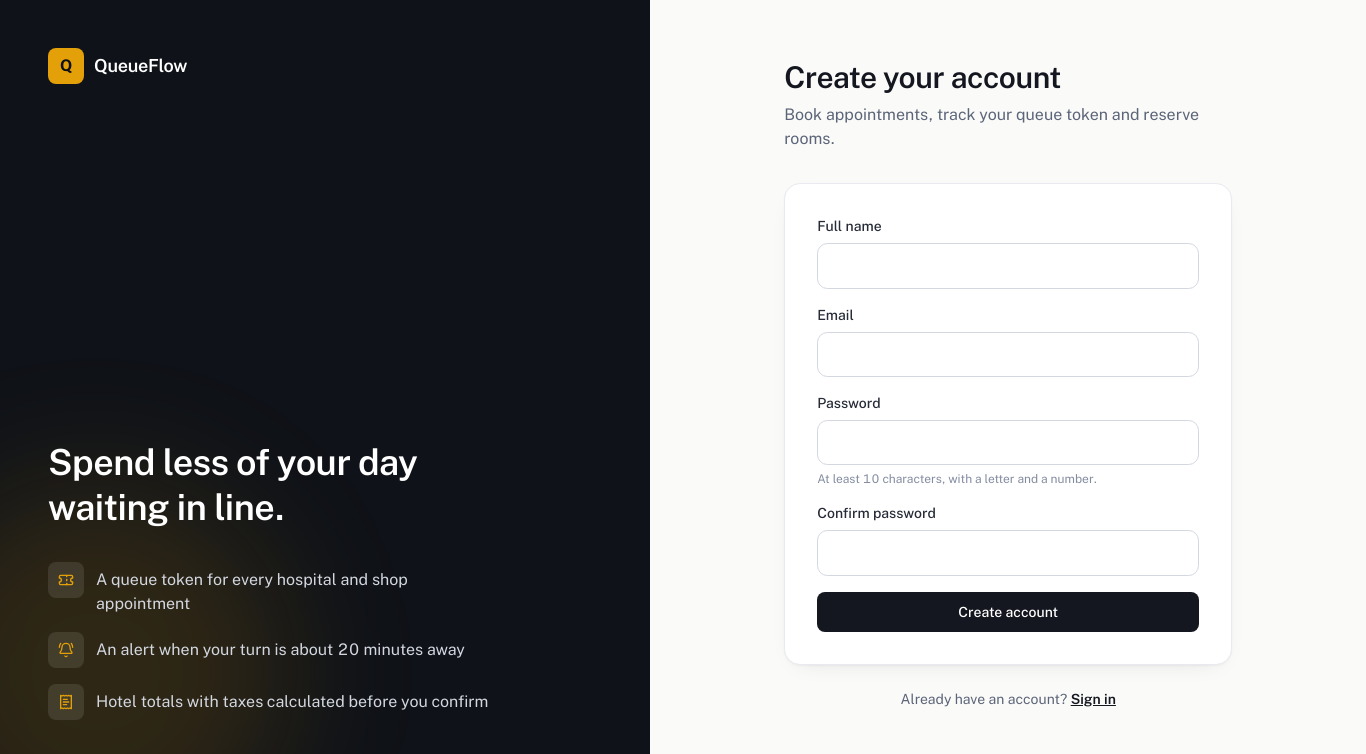
Test case: Register page › maps server validation errors onto fields
Type "Asha" into the field labelled "Full name" at (1008, 266), box [817,243,1199,289]
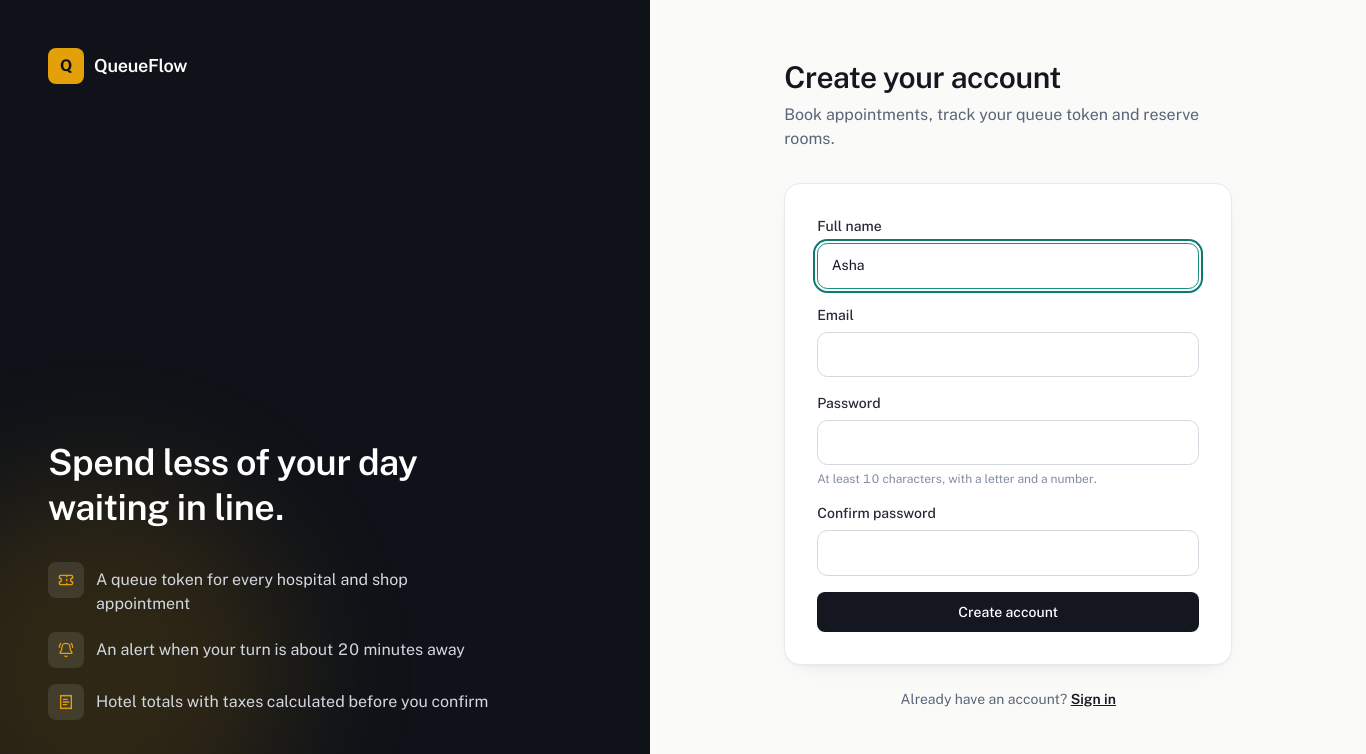
Type "taken@example.com" into the field labelled "Email" at (1008, 354), box [817,332,1199,377]
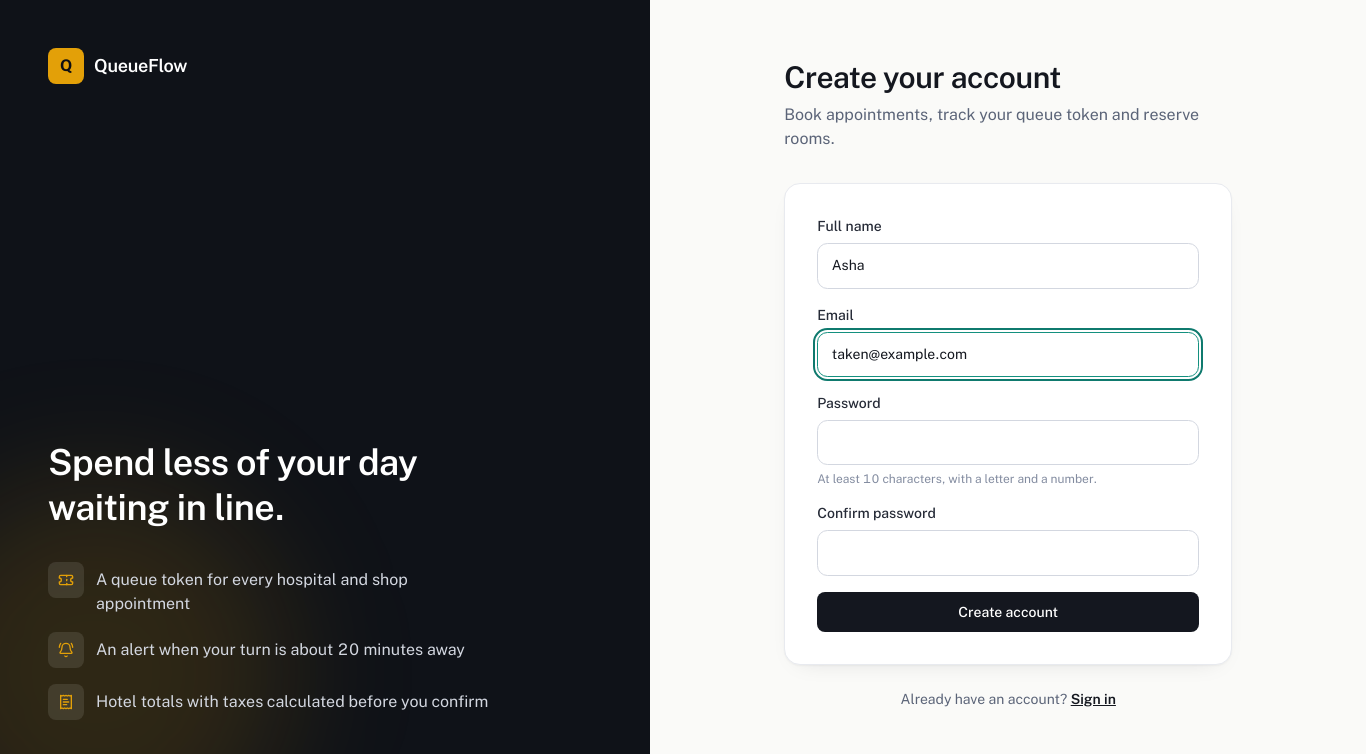
Type "Walkthrough2026" into the password field labelled "Password" at (1008, 443), box [817,420,1199,465]
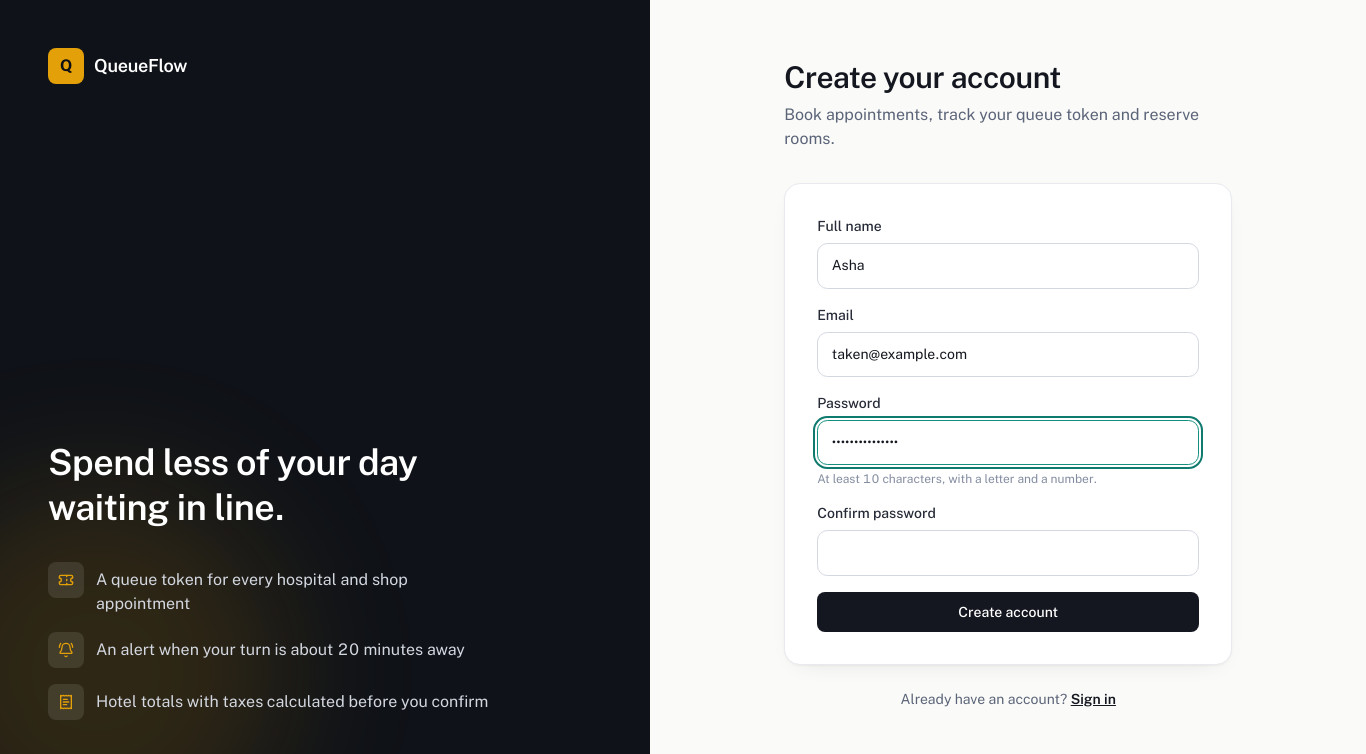
Type "Walkthrough2026" into the password field labelled "Confirm password" at (1008, 553), box [817,530,1199,576]
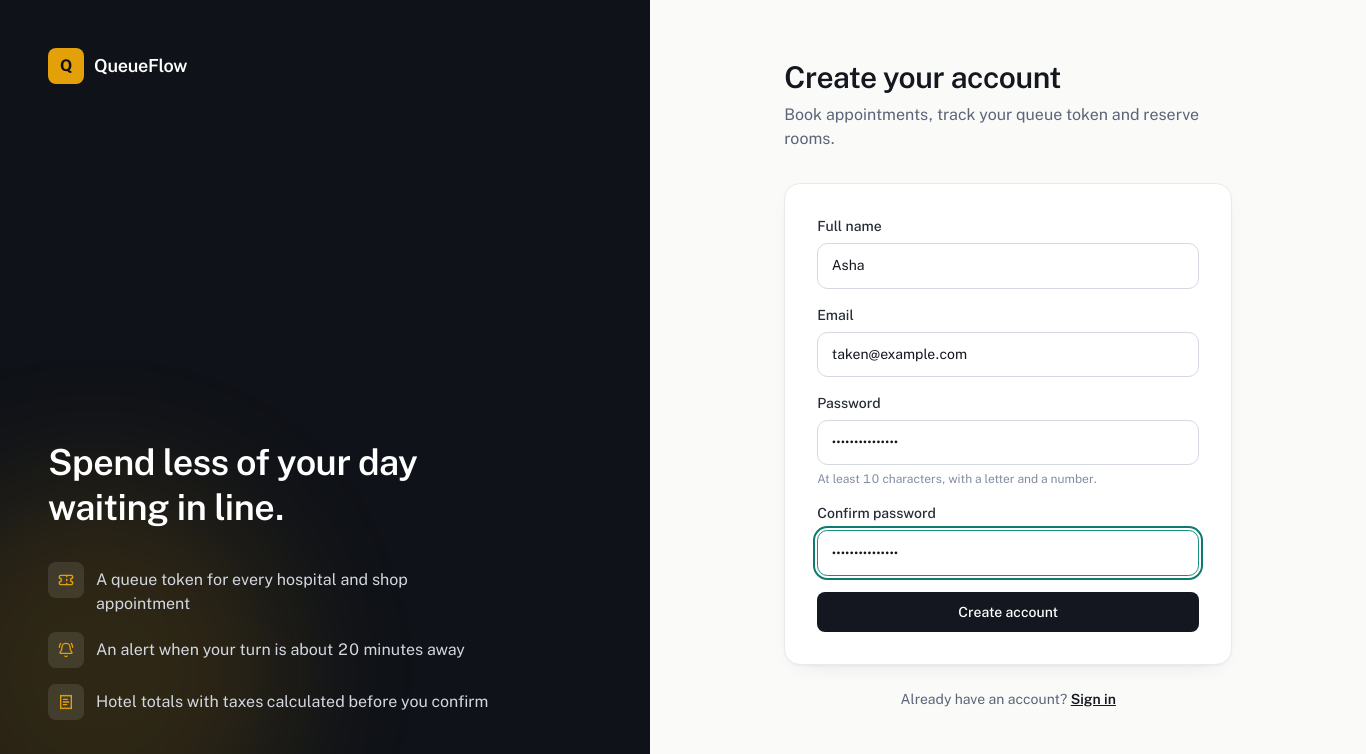
Click the button "Create account" at (1008, 612), box [817,592,1199,632]
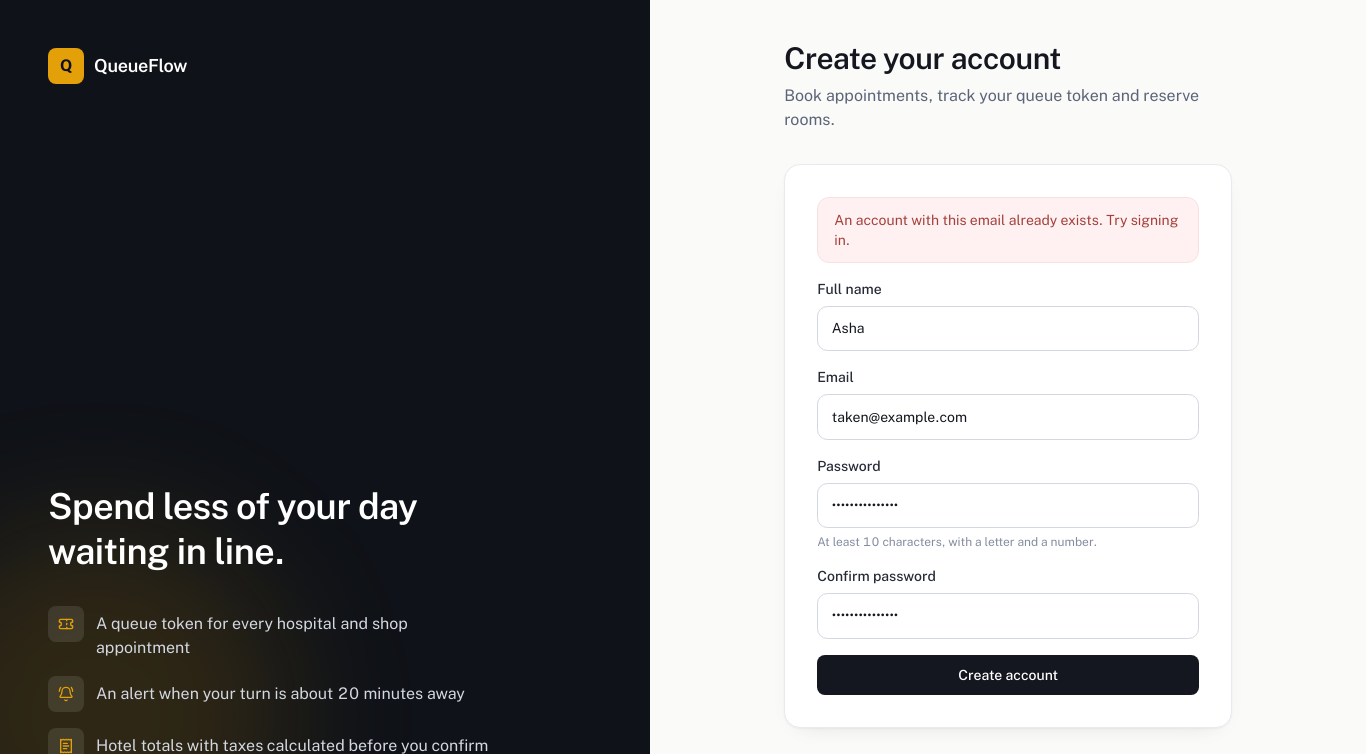
Expected: the text "An account with this email already exists. Try signing in." is shown, [817,197,1199,263]
